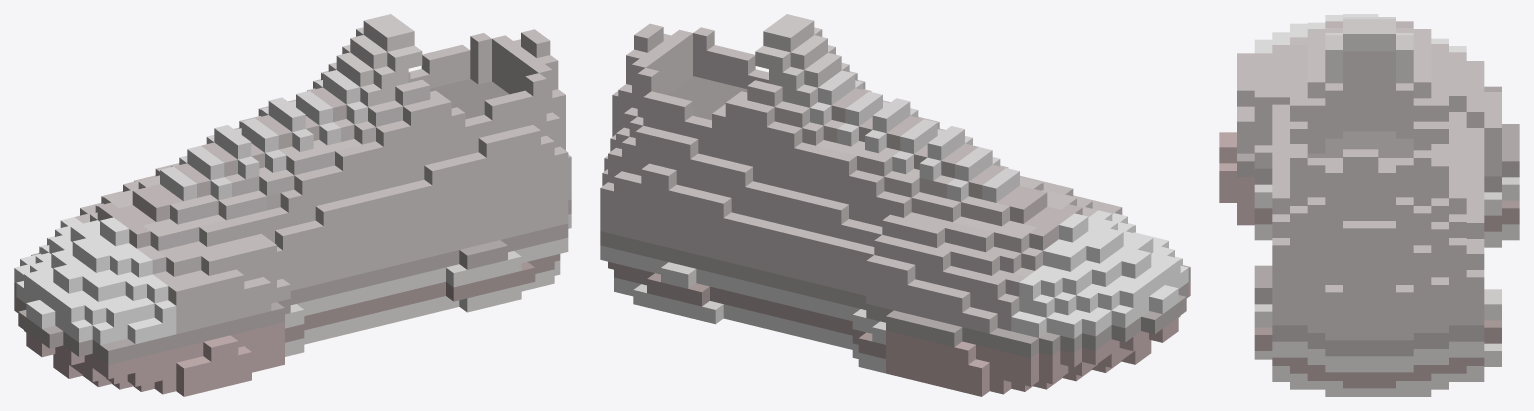
File: Ivory.fbx
The picture shows the model from 3 angles, left to right: view 1: azimuth 30°, elevation 25°; view 2: azimuth 150°, elevation 25°; view 3: azimuth 270°, elevation 25°; orthographic projection. The views are drawn at different scales.
Parts seen in each view (by area): view 1: Untitled; view 2: Untitled; view 3: Untitled.
Boxes of the visible parts, x1=… form: Untitled: x1=14, y1=14, x2=571, y2=396; Untitled: x1=600, y1=14, x2=1190, y2=396; Untitled: x1=1219, y1=14, x2=1519, y2=396.
Size of the model in its own units: 390 by 180 by 170.
